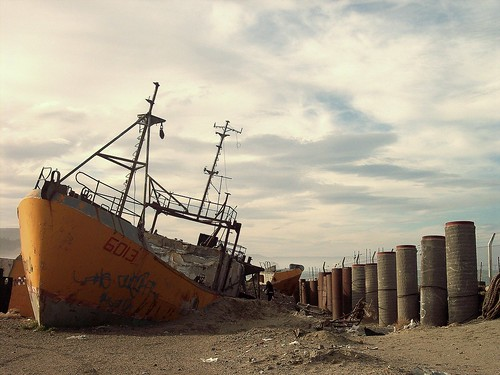boat: (11, 83, 260, 325)
sky: (1, 1, 500, 242)
